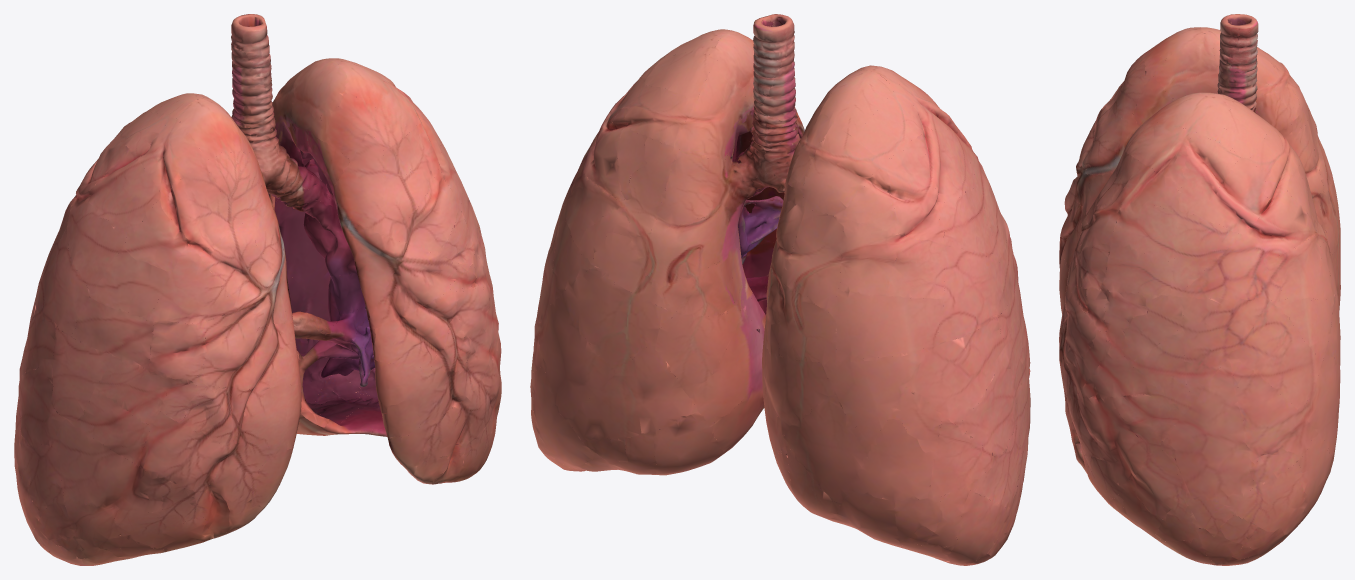
Rendered from lung.glb.
The picture shows the model from 3 angles, left to right: view 1: azimuth 30°, elevation 25°; view 2: azimuth 150°, elevation 25°; view 3: azimuth 270°, elevation 25°; orthographic projection. The views are drawn at different scales.
Parts seen in each view (by area): view 1: Mesh_0; view 2: Mesh_0; view 3: Mesh_0.
Boxes of the visible parts, left/top/right/bottom form: Mesh_0: left=14, top=14, right=501, bottom=565; Mesh_0: left=530, top=14, right=1030, bottom=565; Mesh_0: left=1059, top=14, right=1340, bottom=565.
Bounding box in the file's own units: 1.93 × 2 × 1.12.
1 material, 1 textured.
